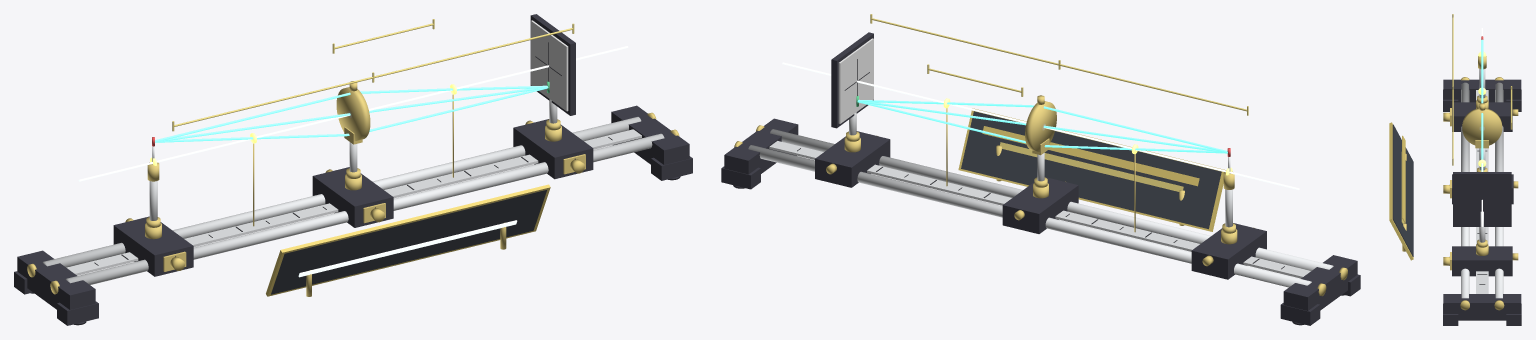
File: optical-bench.glb
3 views of the same model, side by side, from view 1: azimuth 30°, elevation 25°; view 2: azimuth 150°, elevation 25°; view 3: azimuth 270°, elevation 25° (orthographic). The views are drawn at different scales.
Parts seen in each view (by area): view 1: Sec_Plaque_Board, optical-bench_Rail_0, optical-bench_Rail_1, optical-bench_Scale_Strip, optical-bench_Foot_Beam_0, optical-bench_Rider_Obj_Saddle, optical-bench_Rider_Screen_Saddle, optical-bench_Screen_Face, Sec_Plaque_Frame, optical-bench_Rider_Lens_Saddle, optical-bench_Foot_Beam_1, Sec_Optical_Axis (+12 smaller); view 2: Sec_Plaque_Board, optical-bench_Rail_1, optical-bench_Rail_0, optical-bench_Scale_Strip, optical-bench_Rider_Screen_Saddle, optical-bench_Rider_Obj_Saddle, optical-bench_Foot_Beam_0, optical-bench_Screen_Face, optical-bench_Foot_Beam_1, Sec_Lens_Saddle_Cut, Sec_Plaque_Bar_Title, Sec_Plaque_Frame (+13 smaller); view 3: optical-bench_Screen_Frame, Sec_Plaque_Board, optical-bench_Foot_Beam_1, optical-bench_Rider_Screen_Saddle, optical-bench_Foot_Beam_0, optical-bench_Lens_Bezel, optical-bench_Rail_1, optical-bench_Rail_0, optical-bench_Rider_Obj_Saddle, optical-bench_Scale_Strip, Sec_Plaque_Frame, Sec_Plaque_Bar_Title (+12 smaller).
Part boxes in pixels (left/top/right/bottom): Sec_Plaque_Board: left=271, top=190, right=546, bottom=294; optical-bench_Rail_0: left=65, top=133, right=664, bottom=284; optical-bench_Rail_1: left=42, top=117, right=641, bottom=267; optical-bench_Scale_Strip: left=66, top=129, right=641, bottom=275; optical-bench_Foot_Beam_0: left=17, top=250, right=95, bottom=309; optical-bench_Rider_Obj_Saddle: left=113, top=216, right=193, bottom=276; optical-bench_Rider_Screen_Saddle: left=513, top=119, right=593, bottom=179; optical-bench_Screen_Face: left=531, top=20, right=568, bottom=111; Sec_Plaque_Frame: left=266, top=184, right=550, bottom=296; optical-bench_Rider_Lens_Saddle: left=313, top=167, right=393, bottom=227; optical-bench_Foot_Beam_1: left=611, top=105, right=689, bottom=164; Sec_Optical_Axis: left=78, top=46, right=628, bottom=181; Sec_Plaque_Board: left=961, top=111, right=1221, bottom=229; optical-bench_Rail_1: left=748, top=145, right=1311, bottom=287; optical-bench_Rail_0: left=770, top=129, right=1333, bottom=270; optical-bench_Scale_Strip: left=769, top=141, right=1310, bottom=278; optical-bench_Rider_Screen_Saddle: left=815, top=131, right=890, bottom=187; optical-bench_Rider_Obj_Saddle: left=1191, top=223, right=1266, bottom=279; optical-bench_Foot_Beam_0: left=1283, top=255, right=1357, bottom=310; optical-bench_Screen_Face: left=838, top=38, right=873, bottom=123; optical-bench_Foot_Beam_1: left=724, top=118, right=798, bottom=174; Sec_Lens_Saddle_Cut: left=1002, top=190, right=1059, bottom=233; Sec_Plaque_Bar_Title: left=982, top=126, right=1199, bottom=186; Sec_Plaque_Frame: left=958, top=108, right=1226, bottom=231; optical-bench_Screen_Frame: left=1453, top=172, right=1511, bottom=226; Sec_Plaque_Board: left=1392, top=124, right=1413, bottom=256; optical-bench_Foot_Beam_1: left=1443, top=294, right=1521, bottom=320; optical-bench_Rider_Screen_Saddle: left=1452, top=246, right=1512, bottom=276; optical-bench_Foot_Beam_0: left=1443, top=79, right=1521, bottom=102; optical-bench_Lens_Bezel: left=1462, top=108, right=1502, bottom=145; optical-bench_Rail_1: left=1495, top=82, right=1503, bottom=298; optical-bench_Rail_0: left=1461, top=82, right=1469, bottom=298; optical-bench_Rider_Obj_Saddle: left=1452, top=102, right=1512, bottom=131; optical-bench_Scale_Strip: left=1476, top=90, right=1488, bottom=293; Sec_Plaque_Frame: left=1389, top=122, right=1413, bottom=260; Sec_Plaque_Bar_Title: left=1402, top=135, right=1405, bottom=222.
Size of the model in its own units: 1.09 by 0.293 by 0.2721.
